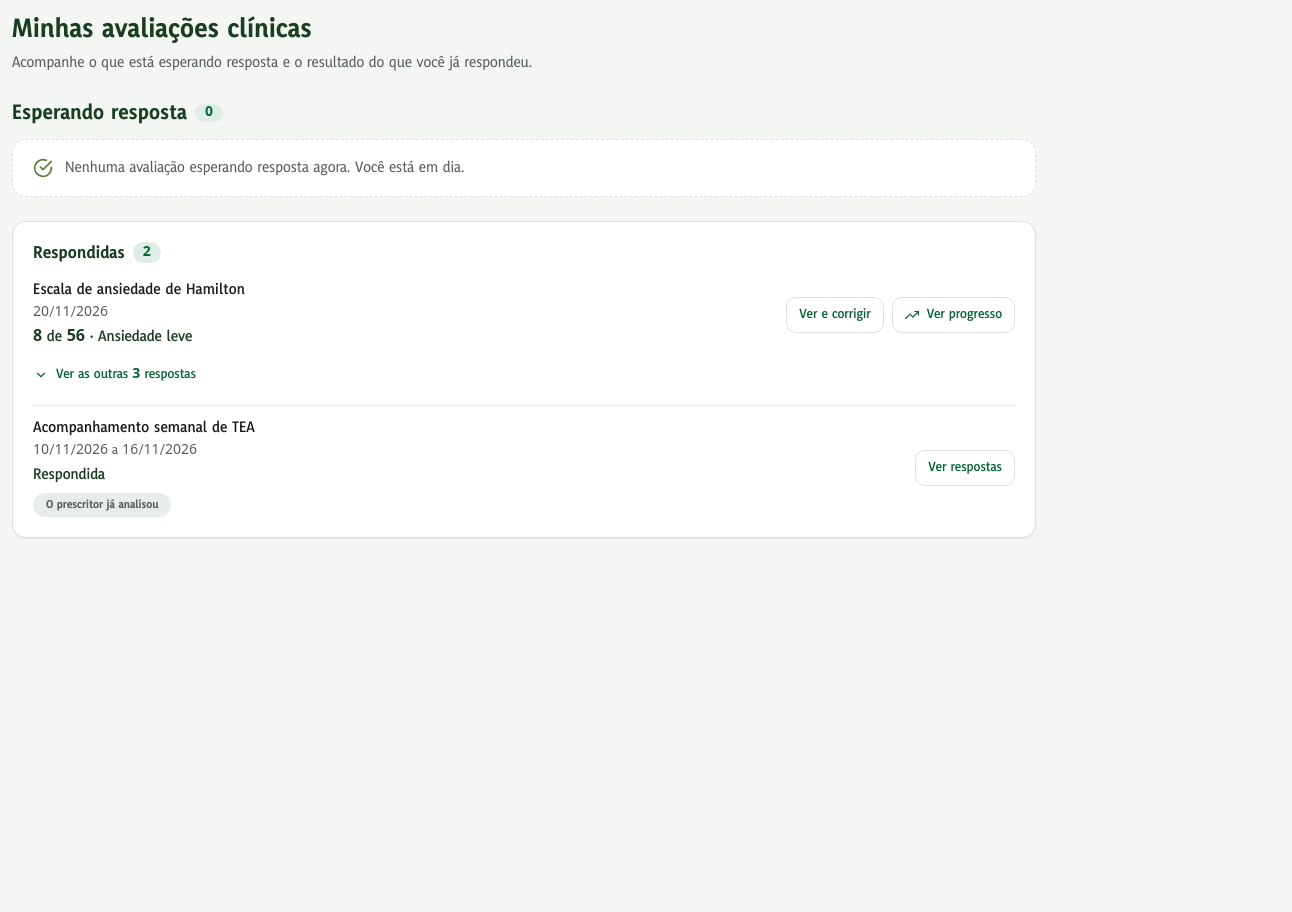
Test: respondidas juntas por escala › as outras respostas abrem e fecham pelo botao, q diz se esta aberto e o q ele abre
This screenshot has width=1292, height=912.
Click the button "Ver as outras 3 respostas".
click(115, 375)  # box [21, 357, 209, 393]
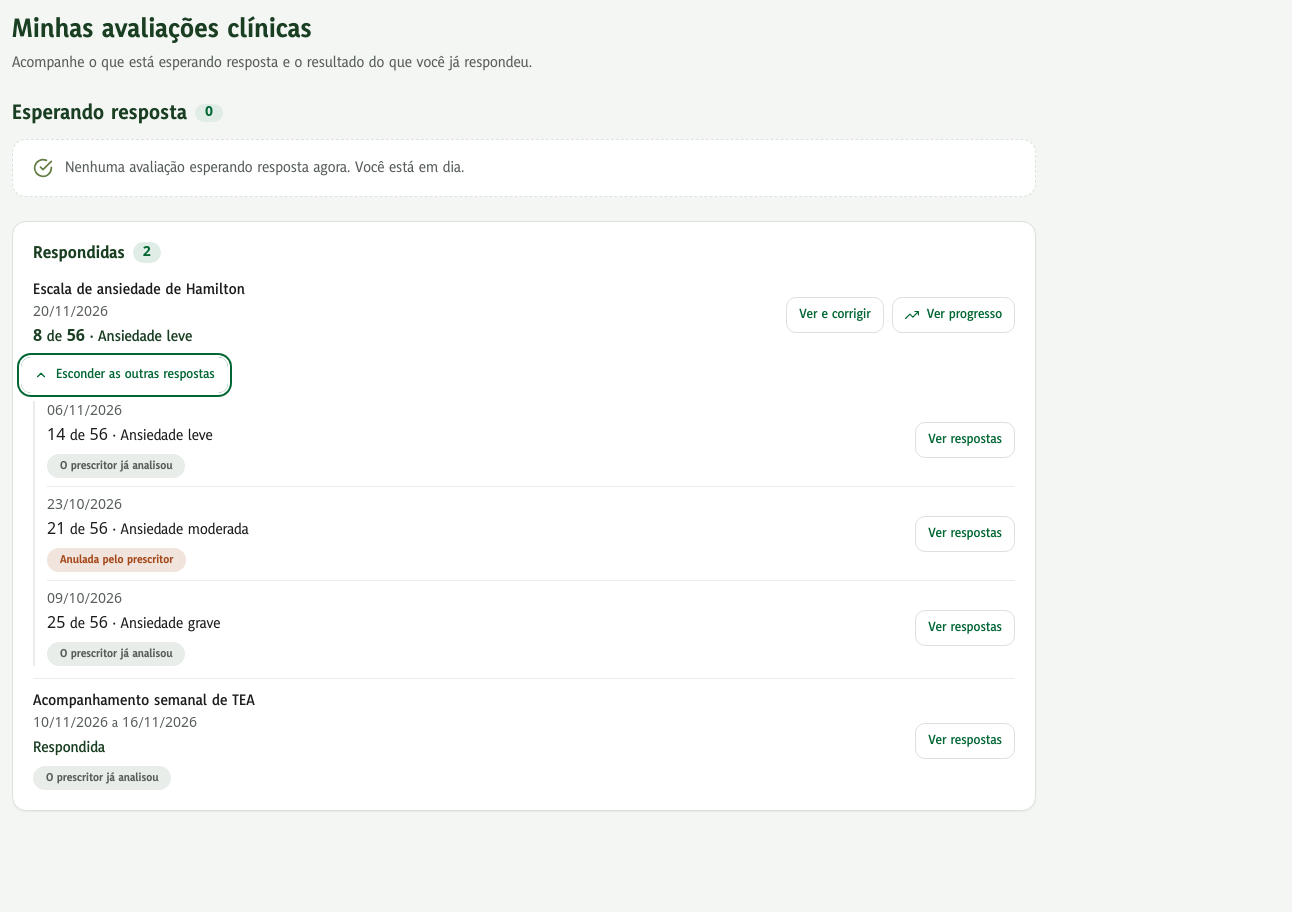
Expected: the button named "Ver as outras 3 respostas" is expanded
Expected: the text "14 de 56 · Ansiedade leve" is shown, [47, 424, 213, 448]
Expected: the text "25 de 56 · Ansiedade grave" is shown, [47, 612, 220, 636]
Click the button named "Ver as outras 3 respostas".
click(124, 375)  # box [21, 357, 228, 393]
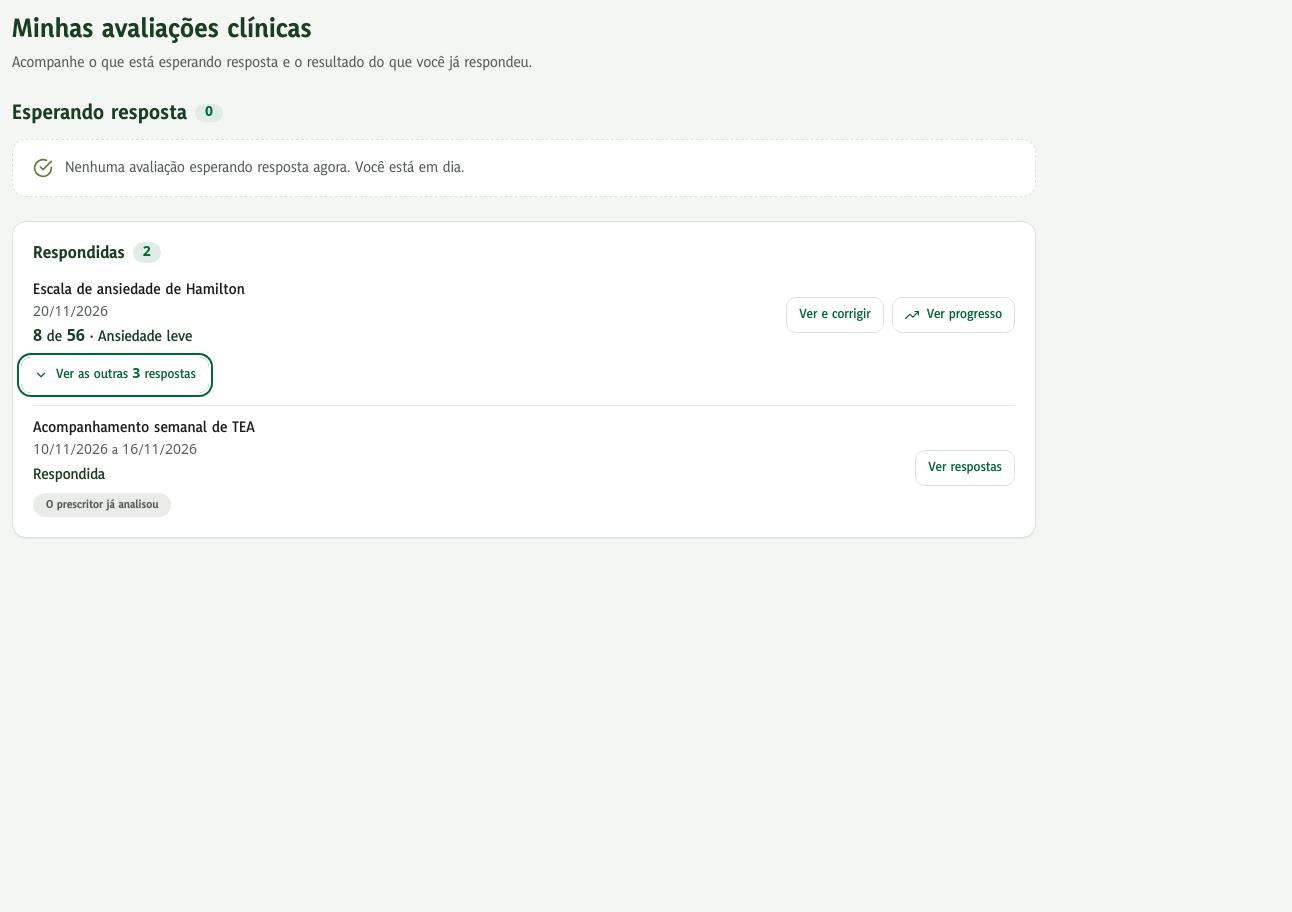
Expected: the button "Ver as outras 3 respostas" is collapsed, [21, 357, 209, 393]
Expected: the text "14 de 56 · Ansiedade leve" is gone
